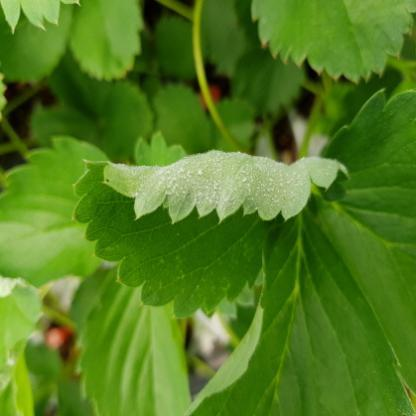Strawberry_Powdery_Mildew_Leaf: (72, 149, 352, 320)
